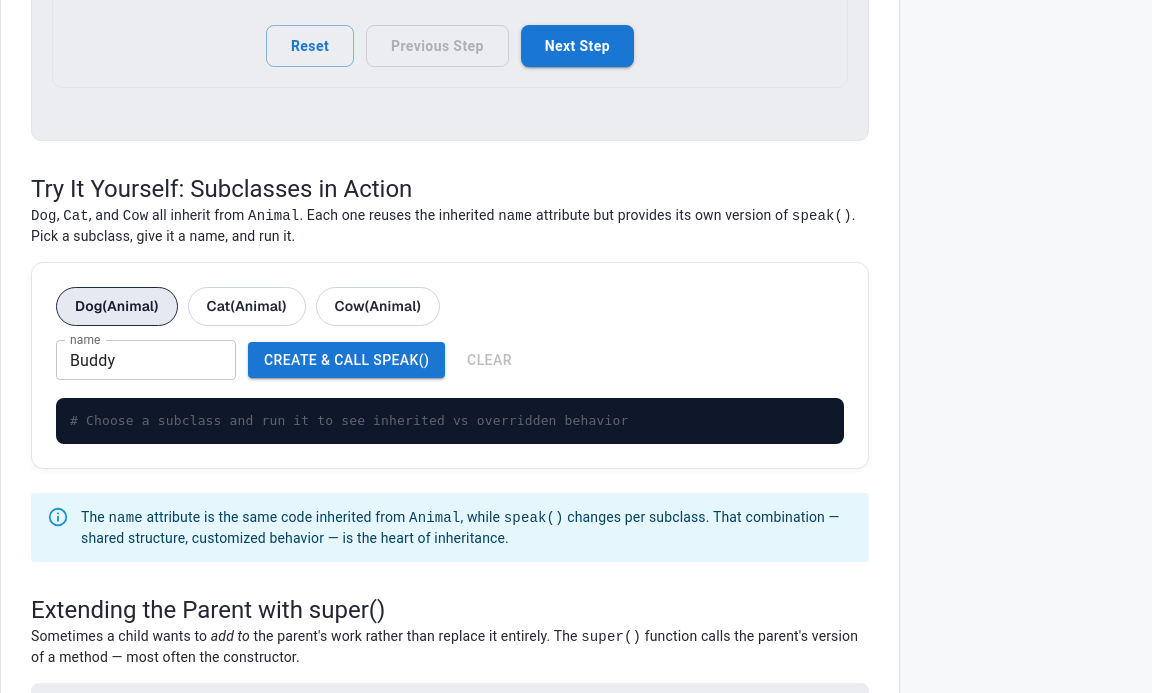
Test: InheritanceConcept › runs the default Dog subclass and logs an overridden speak()
This screenshot has width=1152, height=693.
(page scrolled)
Click the button "Create & call speak()": [347, 360] box left=248, top=342, right=446, bottom=378
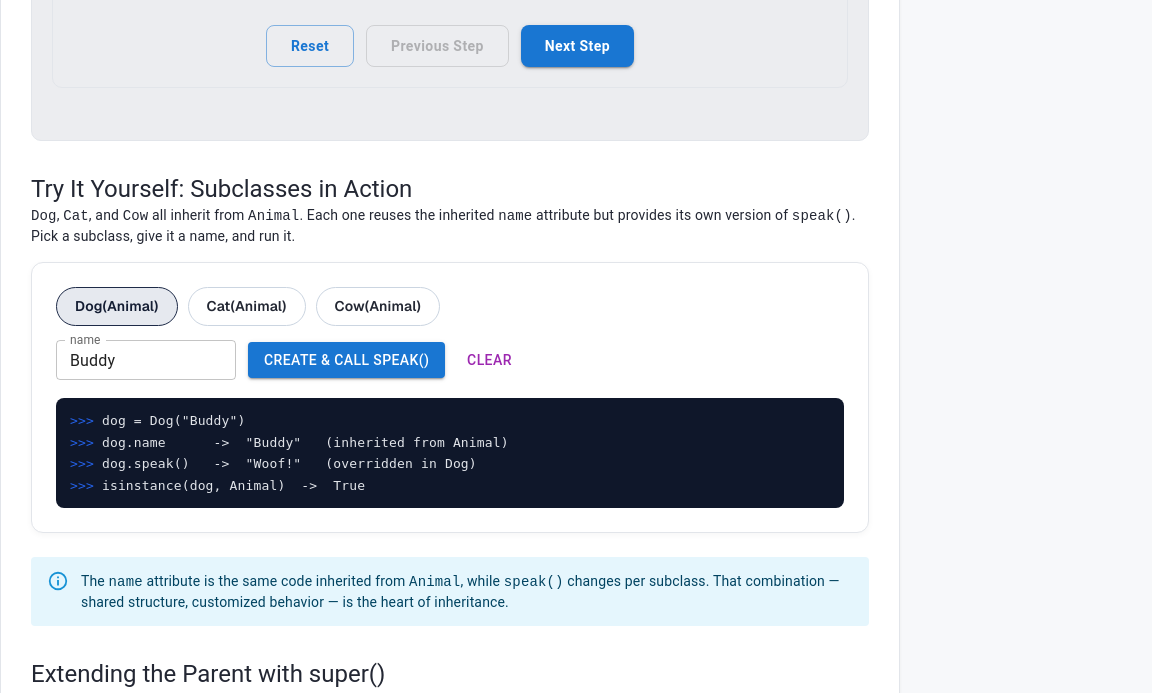
Expected: the text ">>> dog.speak() -> \"Woof!\" (overridden in Dog)" is shown, left=70, top=456, right=477, bottom=471
Expected: the text ">>> dog.name -> \"Buddy\" (inherited from Animal)" is shown, left=70, top=435, right=509, bottom=450
